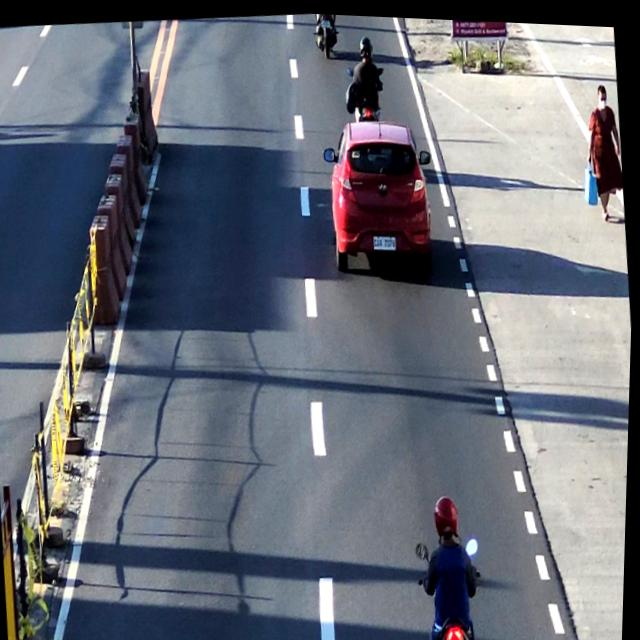Car: (322, 110, 436, 274)
License-Plate: (373, 226, 400, 250)
Motorcycle: (412, 491, 490, 640), (342, 32, 385, 114), (306, 11, 343, 56)
